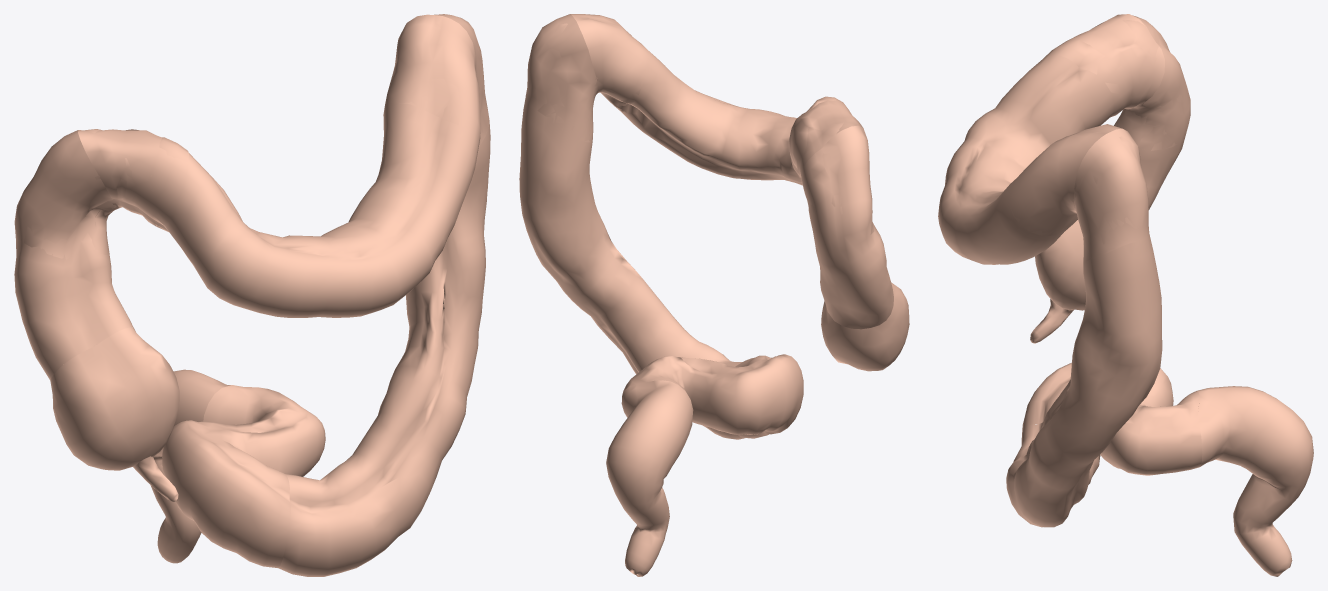
The model's file is sbu_f_intestine_large-80.glb.
The picture shows the model from 3 angles, left to right: view 1: azimuth 30°, elevation 25°; view 2: azimuth 150°, elevation 25°; view 3: azimuth 270°, elevation 25°; orthographic projection. The views are drawn at different scales.
Visible parts, largest first — view 1: VH_F_transverse_colon, VH_F_descending_colon, VH_F_sigmoid_colon, VH_F_ascending_colon, VH_F_caecum, VH_F_rectum, VH_F_hepatic_flexure_of_colon, VH_F_splenic_flexure_of_colon, VH_F_vermiform_appendix; view 2: VH_F_descending_colon, VH_F_transverse_colon, VH_F_ascending_colon, VH_F_rectum, VH_F_sigmoid_colon, VH_F_caecum, VH_F_splenic_flexure_of_colon, VH_F_hepatic_flexure_of_colon; view 3: VH_F_descending_colon, VH_F_transverse_colon, VH_F_rectum, VH_F_sigmoid_colon, VH_F_ascending_colon, VH_F_caecum, VH_F_hepatic_flexure_of_colon, VH_F_splenic_flexure_of_colon, VH_F_vermiform_appendix.
Boxes of the visible parts, x1=… form: VH_F_transverse_colon: x1=78, y1=14, x2=480, y2=317; VH_F_descending_colon: x1=278, y1=14, x2=490, y2=576; VH_F_sigmoid_colon: x1=162, y1=385, x2=325, y2=567; VH_F_ascending_colon: x1=14, y1=130, x2=135, y2=379; VH_F_caecum: x1=50, y1=327, x2=179, y2=470; VH_F_rectum: x1=150, y1=369, x2=230, y2=563; VH_F_hepatic_flexure_of_colon: x1=24, y1=129, x2=188, y2=259; VH_F_splenic_flexure_of_colon: x1=383, y1=14, x2=489, y2=156; VH_F_vermiform_appendix: x1=133, y1=456, x2=178, y2=502; VH_F_descending_colon: x1=519, y1=14, x2=744, y2=439; VH_F_transverse_colon: x1=570, y1=14, x2=863, y2=185; VH_F_ascending_colon: x1=801, y1=125, x2=893, y2=329; VH_F_rectum: x1=606, y1=380, x2=693, y2=576; VH_F_sigmoid_colon: x1=622, y1=354, x2=803, y2=438; VH_F_caecum: x1=821, y1=282, x2=909, y2=371; VH_F_splenic_flexure_of_colon: x1=525, y1=16, x2=649, y2=142; VH_F_hepatic_flexure_of_colon: x1=789, y1=96, x2=874, y2=251; VH_F_descending_colon: x1=1006, y1=128, x2=1162, y2=527; VH_F_transverse_colon: x1=938, y1=14, x2=1164, y2=264; VH_F_rectum: x1=1197, y1=386, x2=1313, y2=576; VH_F_sigmoid_colon: x1=1022, y1=362, x2=1202, y2=475; VH_F_ascending_colon: x1=1114, y1=15, x2=1190, y2=209; VH_F_caecum: x1=1035, y1=220, x2=1085, y2=310; VH_F_hepatic_flexure_of_colon: x1=1046, y1=19, x2=1183, y2=150; VH_F_splenic_flexure_of_colon: x1=1011, y1=130, x2=1149, y2=260; VH_F_vermiform_appendix: x1=1030, y1=299, x2=1073, y2=343.
Size of the model in its own units: 0.2433 by 0.2949 by 0.1934.
